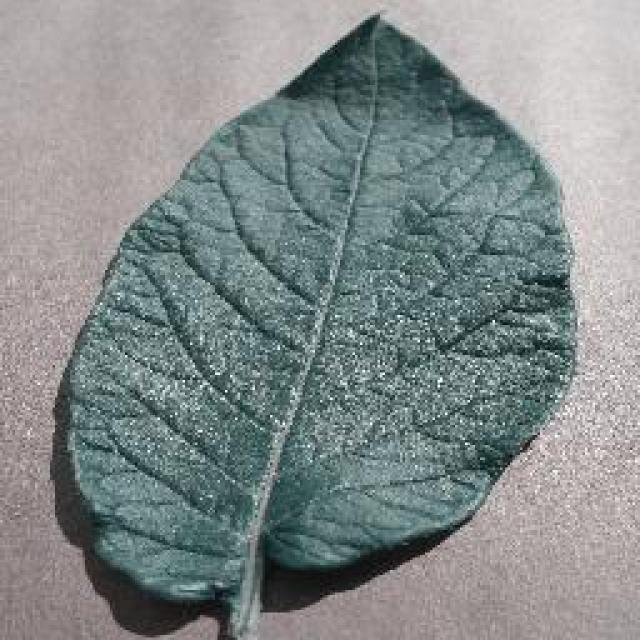Potato___healthy: (67, 12, 580, 638)
